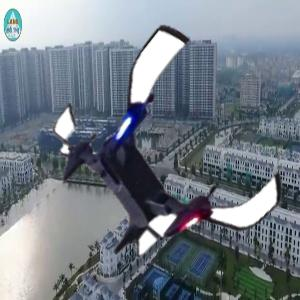drone: (51, 42, 290, 281)
